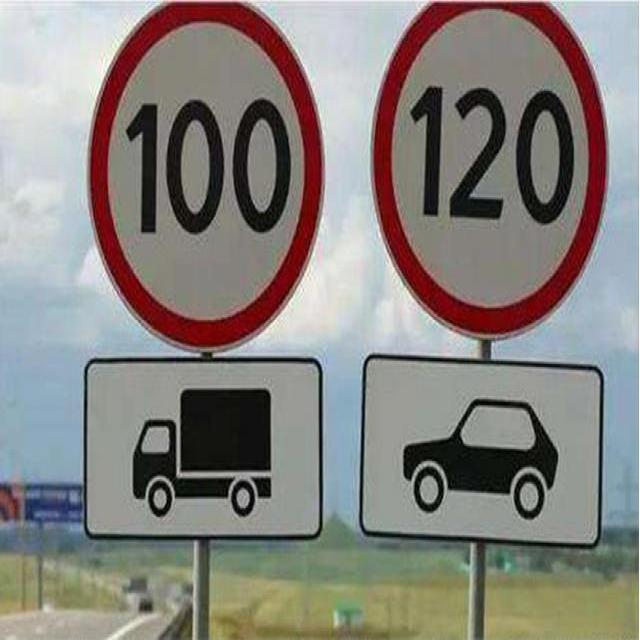speed limit 100: (85, 0, 325, 352)
speed limit 120: (372, 1, 611, 344)
